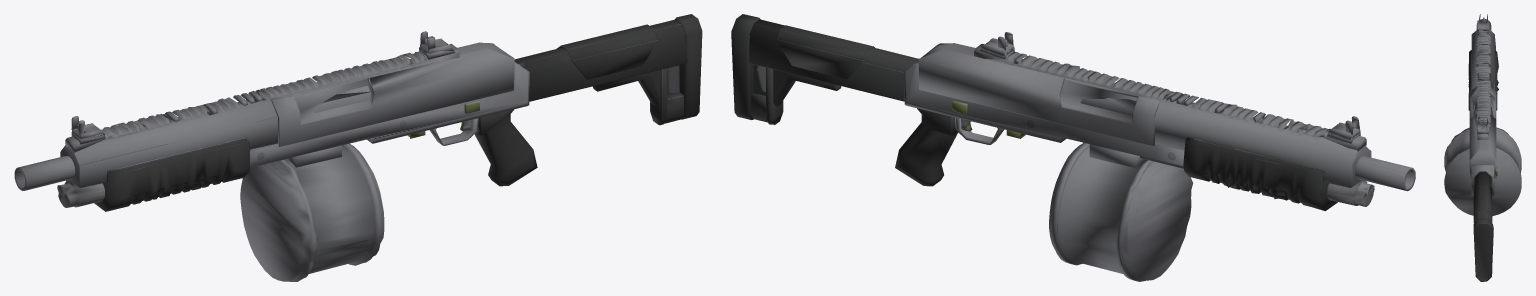
File: sg_rhino.glb
3 renders of one model, left to right at view 1: azimuth 30°, elevation 25°; view 2: azimuth 150°, elevation 25°; view 3: azimuth 270°, elevation 25°, orthographic. The views are drawn at different scales.
Bounding box in the file's own units: 0.9536 × 0.2808 × 0.1587.
1 material, 1 textured.
